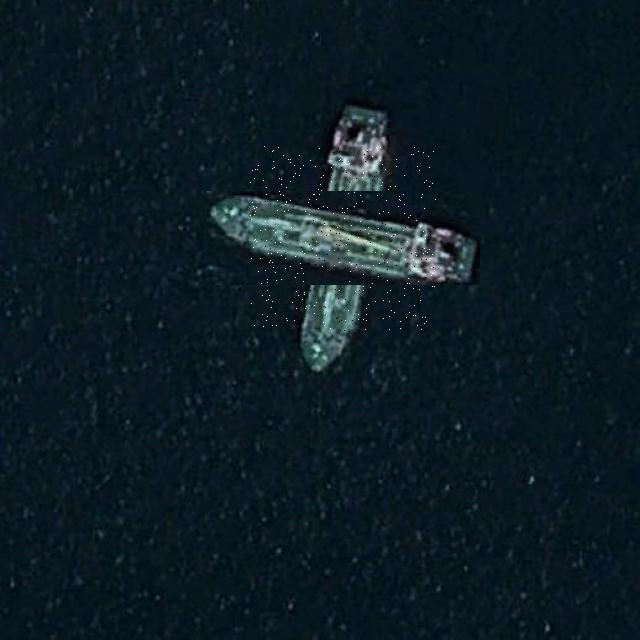boat: (250, 146, 436, 331)
